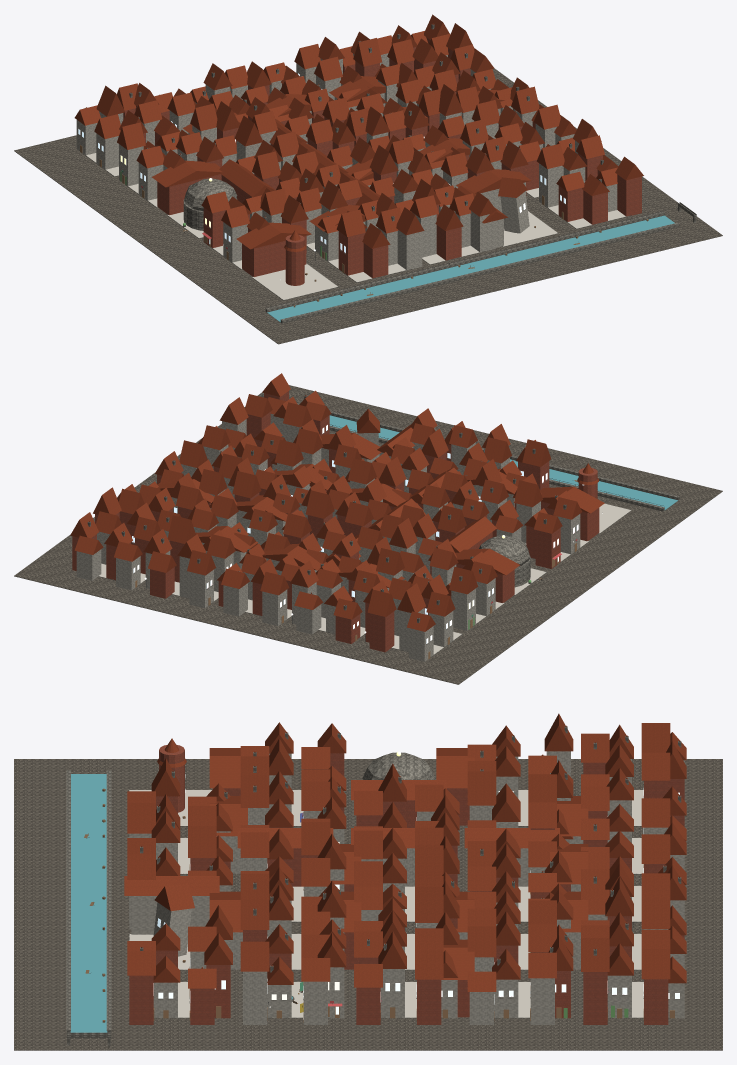
File: city.glb
3 renders of one model, top to bottom at view 1: azimuth 30°, elevation 25°; view 2: azimuth 150°, elevation 25°; view 3: azimuth 270°, elevation 25°, orthographic. The views are drawn at different scales.
Visible parts, largest first — view 1: Merged_Roof_1, Merged_Roof_0, Ground, Merged_Wall_4, Merged_Stone, Merged_Wall_2, Merged_Wall_1, Merged_Wall_0, Merged_Water, Merged_Wall_3, Merged_Sidewalk; view 2: Merged_Roof_1, Merged_Roof_0, Ground, Merged_Wall_4, Merged_Wall_2, Merged_Wall_1, Merged_Wall_0, Merged_Stone, Merged_Wall_3, Merged_Sidewalk, Merged_Water, Merged_Window; view 3: Ground, Merged_Roof_1, Merged_Roof_0, Merged_Wall_4, Merged_Wall_2, Merged_Water, Merged_Sidewalk, Merged_Stone, Merged_Wall_0, Merged_Wall_1, Merged_Wall_3, Merged_Window (+1 smaller).
Boxes of the visible parts, x1,y1,x2,y2 form: Merged_Roof_1: (74, 14, 618, 251); Merged_Roof_0: (96, 23, 643, 237); Ground: (14, 68, 722, 344); Merged_Wall_4: (135, 37, 607, 285); Merged_Stone: (78, 24, 696, 323); Merged_Wall_2: (138, 58, 579, 265); Merged_Wall_1: (96, 53, 574, 261); Merged_Wall_0: (76, 53, 617, 269); Merged_Water: (267, 215, 674, 322); Merged_Wall_3: (123, 61, 641, 260); Merged_Sidewalk: (86, 153, 625, 299); Merged_Roof_1: (70, 394, 604, 631); Merged_Roof_0: (74, 373, 572, 616); Ground: (14, 385, 722, 684); Merged_Wall_4: (72, 412, 599, 643); Merged_Wall_2: (76, 419, 580, 627); Merged_Wall_1: (97, 424, 521, 651); Merged_Wall_0: (145, 414, 485, 661); Merged_Stone: (87, 392, 679, 657); Merged_Wall_3: (157, 391, 516, 652); Merged_Sidewalk: (99, 503, 631, 654); Merged_Water: (329, 415, 677, 509); Merged_Window: (132, 425, 583, 643); Ground: (14, 759, 722, 1050); Merged_Roof_1: (124, 722, 686, 988); Merged_Roof_0: (127, 713, 686, 991); Merged_Wall_4: (156, 745, 684, 1024); Merged_Wall_2: (129, 753, 684, 1024); Merged_Water: (70, 774, 292, 1032); Merged_Sidewalk: (129, 790, 643, 1017); Merged_Stone: (66, 726, 681, 1048); Merged_Wall_0: (129, 760, 684, 1018); Merged_Wall_1: (224, 751, 684, 1024); Merged_Wall_3: (129, 762, 684, 1024); Merged_Window: (153, 774, 679, 1019).
Bounding box in the file's own units: 170 × 23.9 × 175.
Materials: 27 (9 with a texture image).
